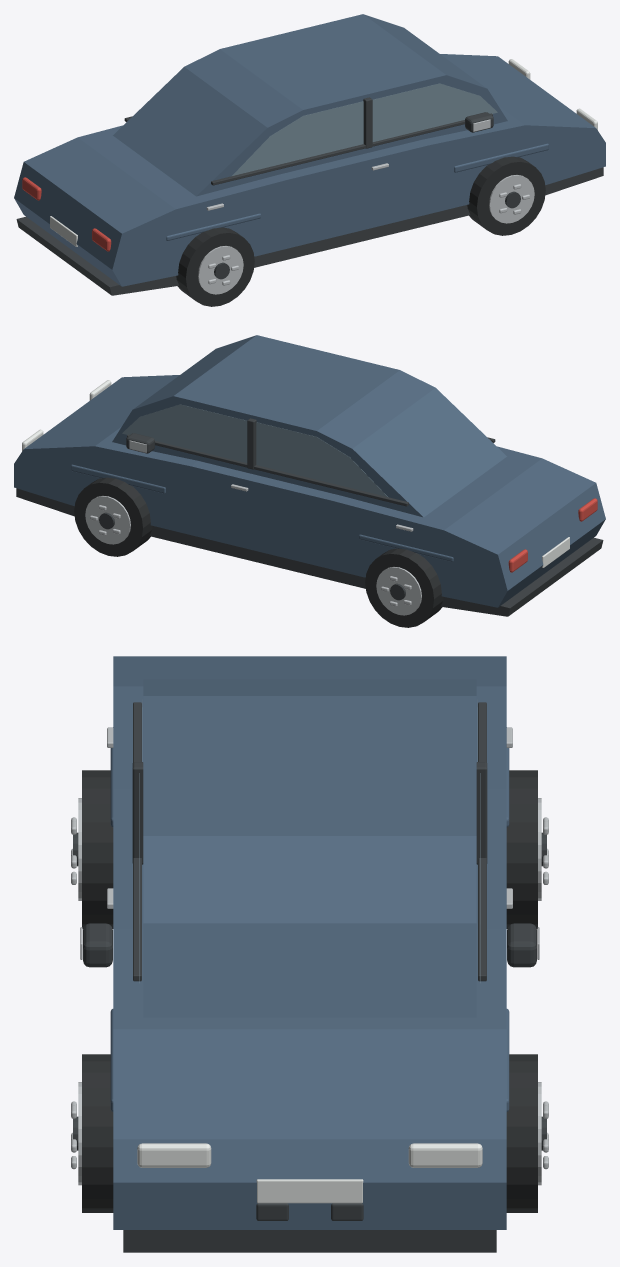
The model's file is r6b2-samochod.glb.
3 views of the same model, one above another, from view 1: azimuth 30°, elevation 25°; view 2: azimuth 150°, elevation 25°; view 3: azimuth 270°, elevation 25° (orthographic). The views are drawn at different scales.
Parts seen in each view (by area): view 1: Samochod material Lakier granatowy, Samochod material Ciemne szklo samochodowe, Samochod material Uszczelki gumowe i zderzak, Samochod material Opony gumowe, Samochod material Felgi szczotkowane aluminium, Samochod material Reflektory biale, Samochod material Lampy tylne; view 2: Samochod material Lakier granatowy, Samochod material Ciemne szklo samochodowe, Samochod material Uszczelki gumowe i zderzak, Samochod material Opony gumowe, Samochod material Felgi szczotkowane aluminium, Samochod material Reflektory biale, Samochod material Lampy tylne; view 3: Samochod material Lakier granatowy, Samochod material Opony gumowe, Samochod material Uszczelki gumowe i zderzak, Samochod material Reflektory biale, Samochod material Felgi szczotkowane aluminium.
Part boxes in pixels (x1,y1,x2,y2): Samochod material Lakier granatowy: [14, 14, 605, 286]; Samochod material Ciemne szklo samochodowe: [232, 83, 497, 175]; Samochod material Uszczelki gumowe i zderzak: [16, 97, 603, 295]; Samochod material Opony gumowe: [176, 156, 545, 306]; Samochod material Felgi szczotkowane aluminium: [198, 119, 534, 294]; Samochod material Reflektory biale: [50, 59, 597, 246]; Samochod material Lampy tylne: [22, 177, 111, 251]; Samochod material Lakier granatowy: [14, 335, 605, 607]; Samochod material Ciemne szklo samochodowe: [122, 404, 387, 496]; Samochod material Uszczelki gumowe i zderzak: [16, 418, 603, 616]; Samochod material Opony gumowe: [74, 477, 443, 627]; Samochod material Felgi szczotkowane aluminium: [85, 440, 421, 615]; Samochod material Reflektory biale: [22, 380, 569, 567]; Samochod material Lampy tylne: [508, 498, 597, 572]; Samochod material Lakier granatowy: [110, 656, 509, 1229]; Samochod material Opony gumowe: [82, 770, 537, 1212]; Samochod material Uszczelki gumowe i zderzak: [73, 702, 546, 1252]; Samochod material Reflektory biale: [137, 1143, 482, 1203]; Samochod material Felgi szczotkowane aluminium: [71, 727, 548, 1185].
Bounding box in the file's own units: 4.59 × 1.43 × 1.92.
